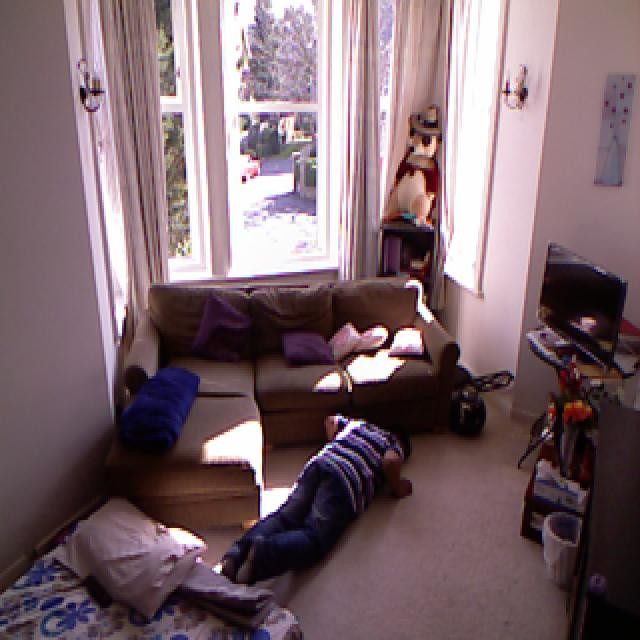lying: (211, 410, 419, 590)
